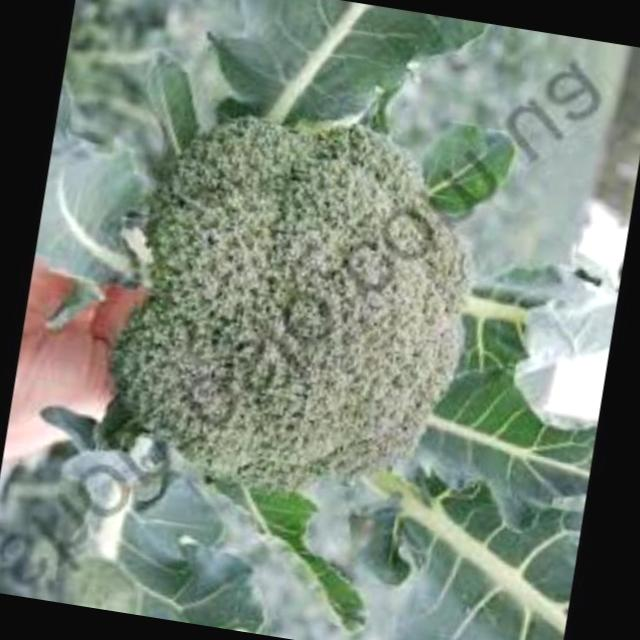Broccoli: (100, 77, 512, 536)
